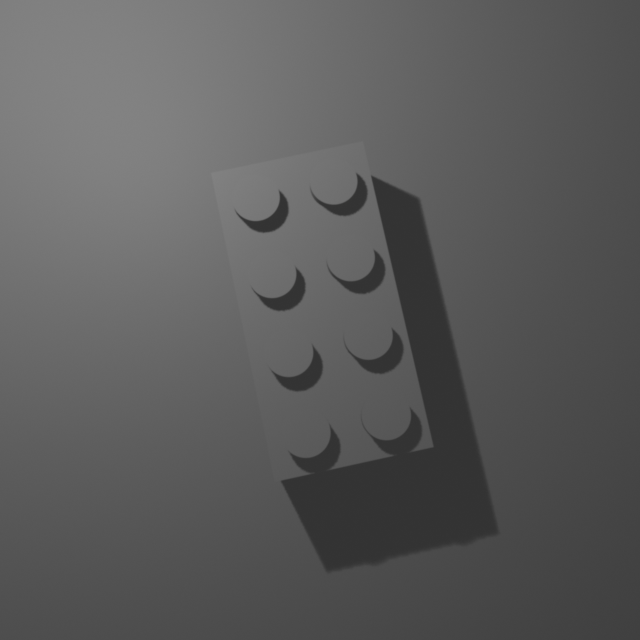lego_2x4: (209, 136, 436, 483)
